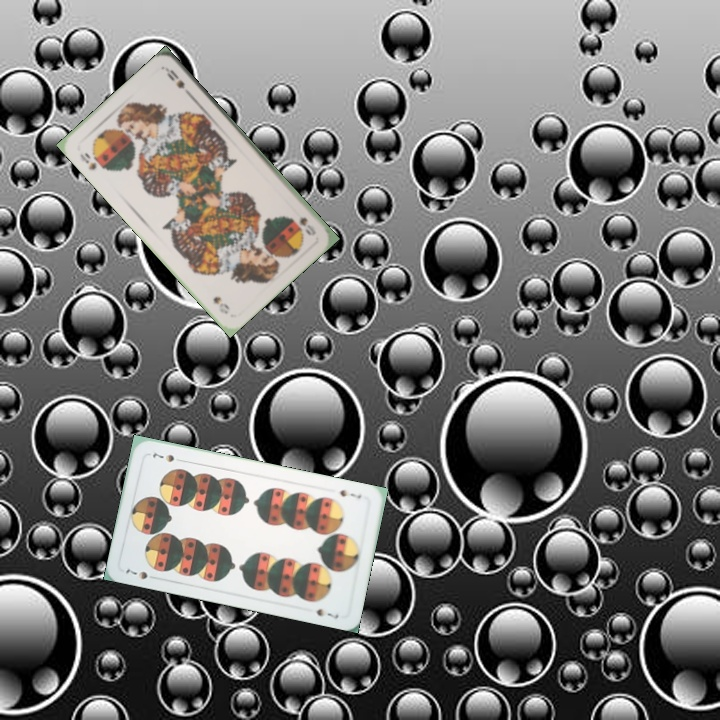S7: (122, 565, 160, 582), (336, 486, 364, 501)
SO: (295, 213, 319, 238), (76, 148, 99, 173)
